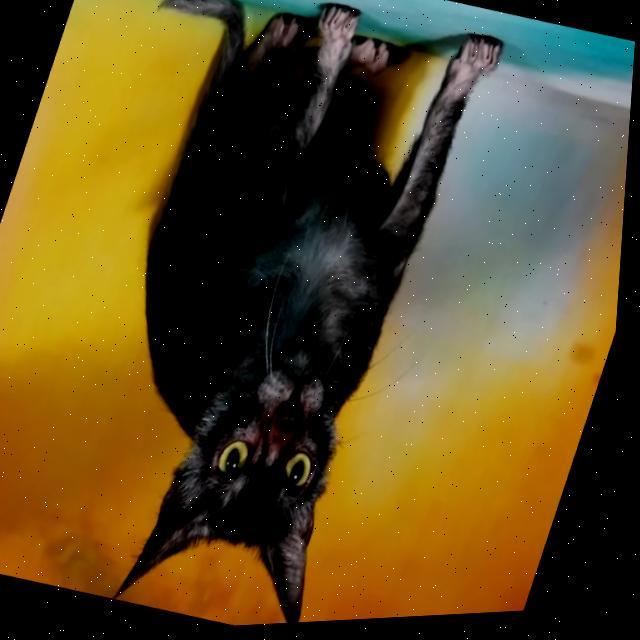Lykoi: (0, 0, 516, 640)
